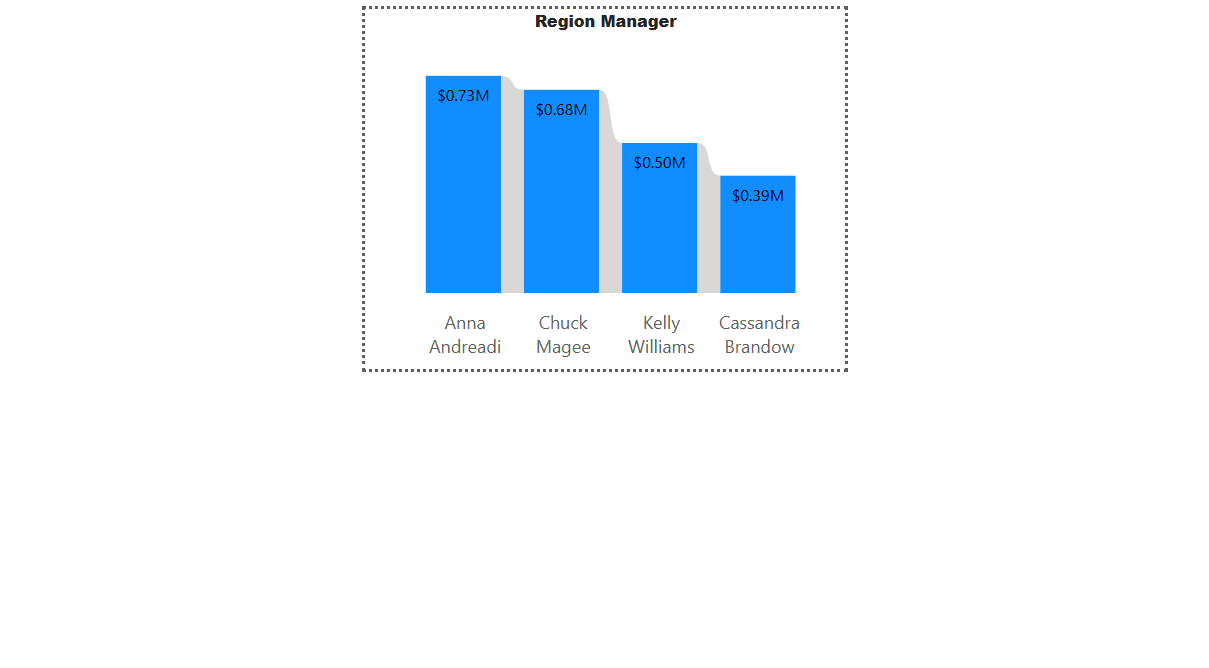

Layout of this report page (visuals, bound fields, positions):
{"tool":"powerbi","page":{"name":"Tooltip_Page","canvas":[320,240],"ordinal":1},"visuals":[{"type":"columnChart","title":"Region Manager","fields":{"Category":["People.Person","People.Region"],"Y":["Orders.Total Sales"]},"box":[0,0,320,240],"z":0}]}

Visuals, with their boxes on the page's 320x240 design canvas (x1, y1, x2, y2). These are canvas units, not pixel positions in the 1209x668 screenshot, which may show the page scaled, cropped or inside an application window:
"Region Manager" columnChart: crop(0, 0, 320, 240)
